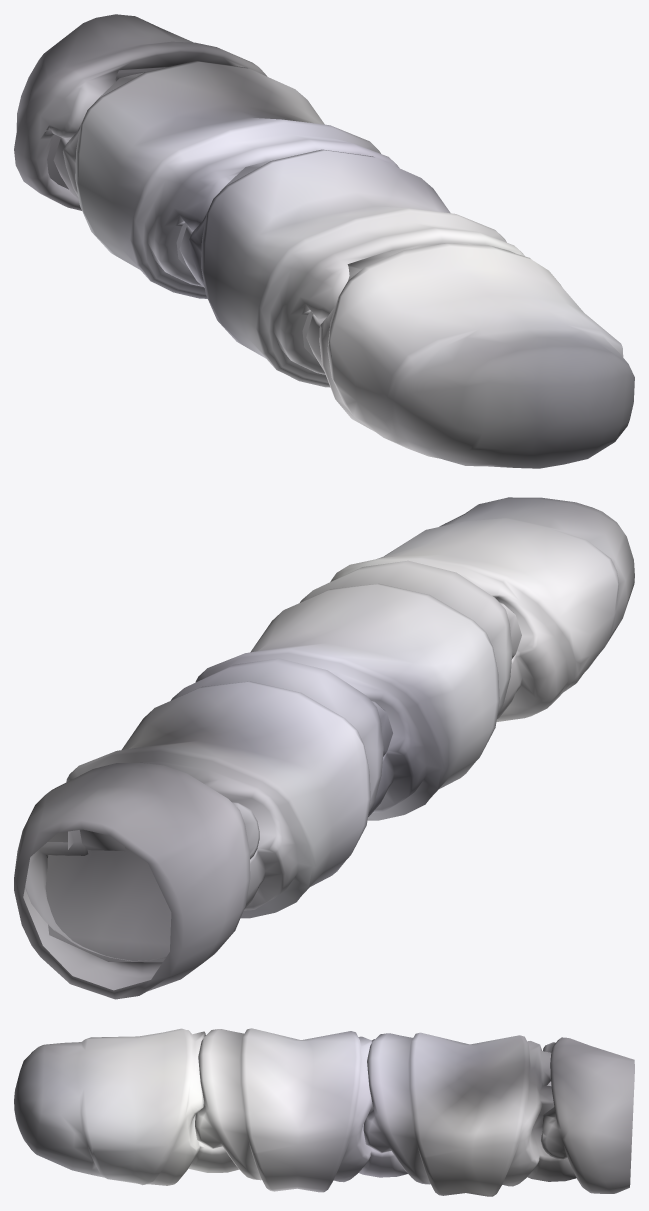
File: doigt3.obj
3 views of the same model, one above another, from view 1: azimuth 30°, elevation 25°; view 2: azimuth 150°, elevation 25°; view 3: azimuth 270°, elevation 25° (orthographic). The views are drawn at different scales.
Parts seen in each view (by area): view 1: Doigt3_Chest.017; view 2: Doigt3_Chest.017; view 3: Doigt3_Chest.017.
Part boxes in pixels (box(x1,y1,x2,y2)): Doigt3_Chest.017: box(14, 14, 634, 468); Doigt3_Chest.017: box(14, 497, 634, 999); Doigt3_Chest.017: box(14, 1028, 634, 1196).
Bounding box in the file's own units: 0.1635 × 0.1254 × 0.5314.
